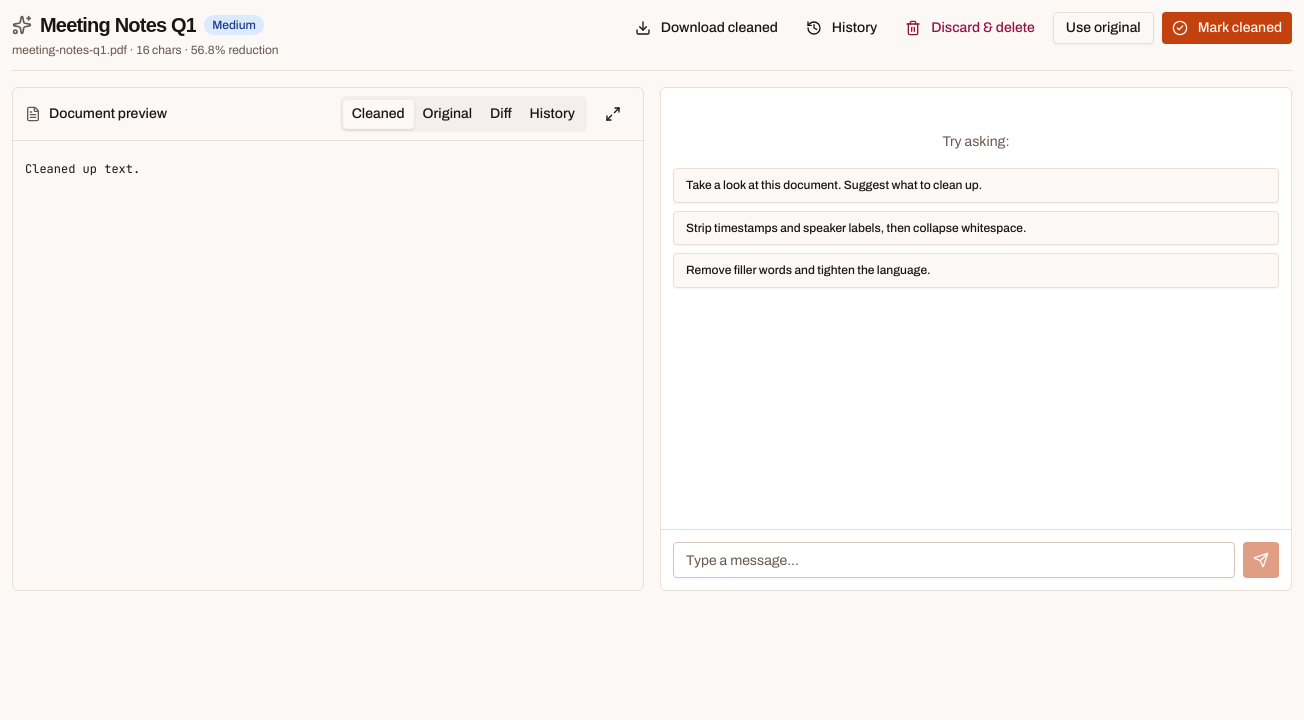
Test: CleanupView › falls back to "Failed (status)" when the finalise error body has no message
Step 1. Click the button "Mark cleaned" → click(1227, 28), box [1162,12,1292,44]
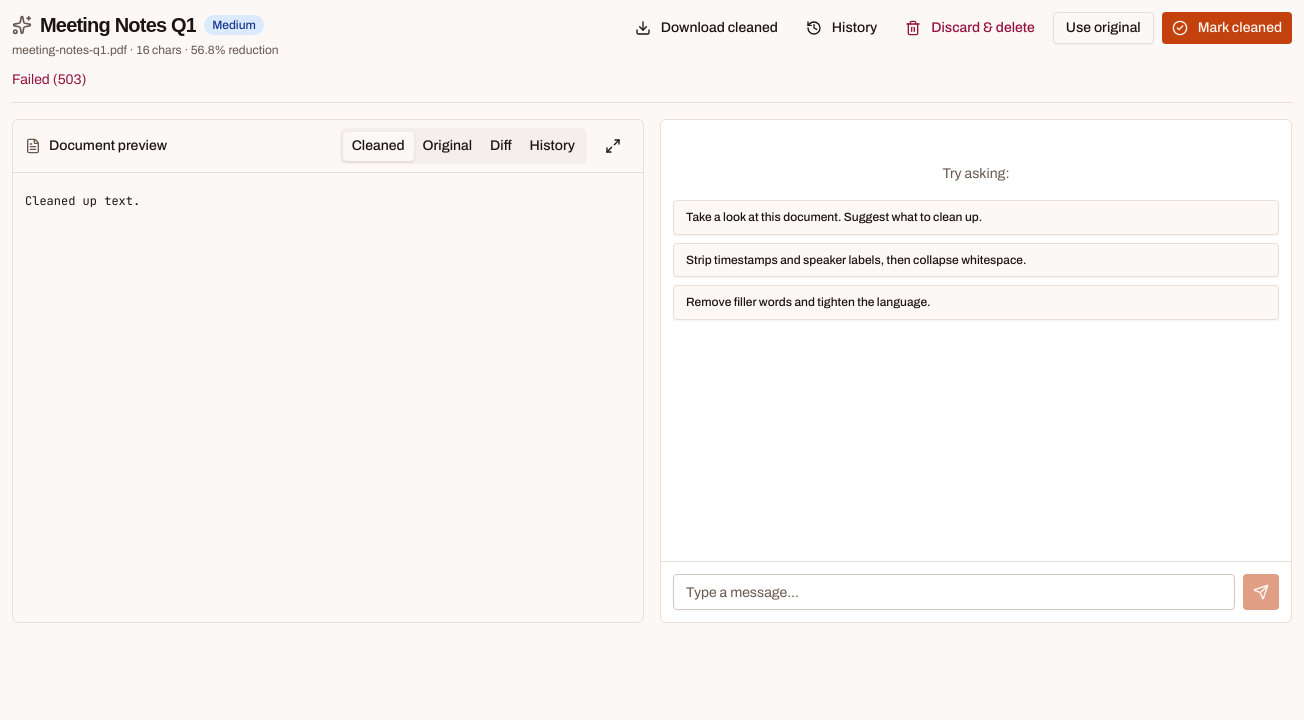
Now the text "Failed (503)" is shown, box [12,72,86,87]
